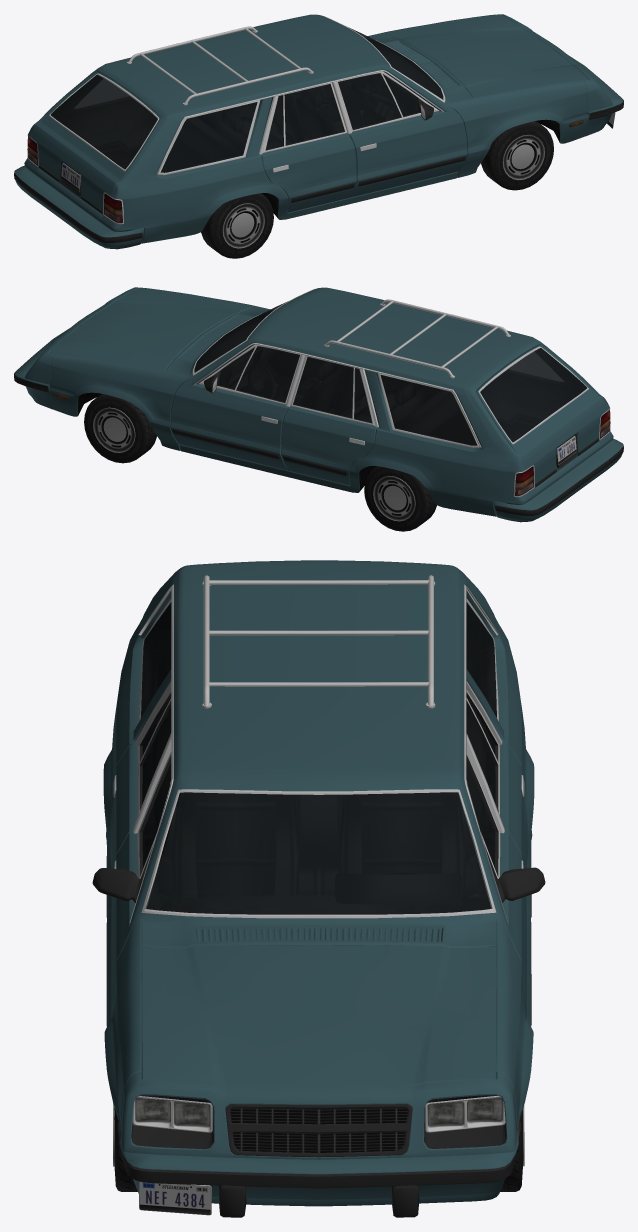
3 views of the same model, one above another, from view 1: azimuth 30°, elevation 25°; view 2: azimuth 150°, elevation 25°; view 3: azimuth 270°, elevation 25° (orthographic). The views are drawn at different scales.
Parts seen in each view (by area): view 1: Fairheaven_SW80_body001_Fairheaven_LT80_Bodymat_0, Fairheaven_SW80_Interior001_UCB_Interior_Trim_0, Fairheaven_LT84_Hood001_Fairheaven_LT80_Bodymat_0, Fairheaven_SW80_Glass_Body001_UCB_Lights_and_Glass_Transpere, Fairheaven_LT80_Interior_Trim005_UCB_Interior_Trim_0, Fairheaven_SW80_Glass_Rear001_UCB_Lights_and_Glass_Transpere, Fairheaven_SW84_Trim_UCB_BOTTOM_GT_0, Fairheaven_LT80_Trunkdoor001_Fairheaven_LT80_Bodymat_0, Fairheaven_LT80_WheelStock_FR002_RB1c_Tire_1k_0, Fairheaven_LT80_WheelStock_RR002_RB1c_Tire_1k_0, Fairheaven_LT80_Glass_Passanger007_UCB_Lights_and_Glass_Tran, Fairheaven_LT84_Bumper_Rear001_Fairheaven_LT80_Bodymat_0 (+10 smaller); view 2: Fairheaven_SW80_body001_Fairheaven_LT80_Bodymat_0, Fairheaven_SW80_Interior001_UCB_Interior_Trim_0, Fairheaven_LT84_Hood001_Fairheaven_LT80_Bodymat_0, Fairheaven_SW80_Glass_Body001_UCB_Lights_and_Glass_Transpere, Fairheaven_LT80_Interior_Trim005_UCB_Interior_Trim_0, Fairheaven_SW80_Glass_Rear001_UCB_Lights_and_Glass_Transpere, Fairheaven_SW84_Trim_UCB_BOTTOM_GT_0, Fairheaven_LT80_Trunkdoor001_Fairheaven_LT80_Bodymat_0, Fairheaven_LT80_WheelStock_FL002_RB1c_Tire_1k_0, Fairheaven_LT80_WheelStock_RL002_RB1c_Tire_1k_0, Fairheaven_LT80_Glass_Driver007_UCB_Lights_and_Glass_Transpe, Fairheaven_LT84_Bumper_Rear001_Fairheaven_LT80_Bodymat_0 (+11 smaller); view 3: Fairheaven_SW80_body001_Fairheaven_LT80_Bodymat_0, Fairheaven_LT84_Hood001_Fairheaven_LT80_Bodymat_0, Fairheaven_LT80_Interior_Trim005_UCB_Interior_Trim_0, Fairheaven_LT80_Windshield006_UCB_Lights_and_Glass_Transpere, Fairheaven_LT84_Front_Plate_Inner001_UCB_BOTTOM_GT_0, Fairheaven_SW84_Trim_UCB_BOTTOM_GT_0, Fairheaven_LT84_Front_Plate001_Fairheaven_LT80_Bodymat_0, Fairheaven_LT84_Bumper_front001_Fairheaven_LT80_Bodymat_0, Fairheaven_LT84_Bumper_front_Inner001_UCB_BOTTOM_GT_0, Fairheaven_SW80_Glass_Body001_UCB_Lights_and_Glass_Transpere, Fairheaven_SW80_Interior001_UCB_Interior_Trim_0, Fairheaven_SW80_Roofrack001_UCB_BOTTOM_GT_0 (+5 smaller).
Part boxes in pixels (<box>): Fairheaven_SW80_body001_Fairheaven_LT80_Bodymat_0: <box>24,14,587,243</box>; Fairheaven_SW80_Interior001_UCB_Interior_Trim_0: <box>51,38,442,172</box>; Fairheaven_LT84_Hood001_Fairheaven_LT80_Bodymat_0: <box>384,15,588,98</box>; Fairheaven_SW80_Glass_Body001_UCB_Lights_and_Glass_Transpere: <box>75,79,344,172</box>; Fairheaven_LT80_Interior_Trim005_UCB_Interior_Trim_0: <box>197,42,443,150</box>; Fairheaven_SW80_Glass_Rear001_UCB_Lights_and_Glass_Transpere: <box>50,74,157,169</box>; Fairheaven_SW84_Trim_UCB_BOTTOM_GT_0: <box>27,15,466,224</box>; Fairheaven_LT80_Trunkdoor001_Fairheaven_LT80_Bodymat_0: <box>31,71,161,214</box>; Fairheaven_LT80_WheelStock_FR002_RB1c_Tire_1k_0: <box>481,121,553,190</box>; Fairheaven_LT80_WheelStock_RR002_RB1c_Tire_1k_0: <box>201,193,273,258</box>; Fairheaven_LT80_Glass_Passanger007_UCB_Lights_and_Glass_Tran: <box>338,73,419,129</box>; Fairheaven_LT84_Bumper_Rear001_Fairheaven_LT80_Bodymat_0: <box>14,165,143,249</box>; Fairheaven_SW80_body001_Fairheaven_LT80_Bodymat_0: <box>50,287,613,516</box>; Fairheaven_SW80_Interior001_UCB_Interior_Trim_0: <box>197,311,586,445</box>; Fairheaven_LT84_Hood001_Fairheaven_LT80_Bodymat_0: <box>49,288,253,371</box>; Fairheaven_SW80_Glass_Body001_UCB_Lights_and_Glass_Transpere: <box>293,352,563,445</box>; Fairheaven_LT80_Interior_Trim005_UCB_Interior_Trim_0: <box>195,318,440,423</box>; Fairheaven_SW80_Glass_Rear001_UCB_Lights_and_Glass_Transpere: <box>480,348,587,442</box>; Fairheaven_SW84_Trim_UCB_BOTTOM_GT_0: <box>171,288,610,497</box>; Fairheaven_LT80_Trunkdoor001_Fairheaven_LT80_Bodymat_0: <box>476,345,606,487</box>; Fairheaven_LT80_WheelStock_FL002_RB1c_Tire_1k_0: <box>84,394,156,463</box>; Fairheaven_LT80_WheelStock_RL002_RB1c_Tire_1k_0: <box>364,466,436,531</box>; Fairheaven_LT80_Glass_Driver007_UCB_Lights_and_Glass_Transpe: <box>218,346,299,402</box>; Fairheaven_LT84_Bumper_Rear001_Fairheaven_LT80_Bodymat_0: <box>494,439,623,522</box>; Fairheaven_SW80_body001_Fairheaven_LT80_Bodymat_0: <box>103,560,534,1128</box>; Fairheaven_LT84_Hood001_Fairheaven_LT80_Bodymat_0: <box>141,945,496,1086</box>; Fairheaven_LT80_Interior_Trim005_UCB_Interior_Trim_0: <box>145,716,492,914</box>; Fairheaven_LT80_Windshield006_UCB_Lights_and_Glass_Transpere: <box>145,792,492,914</box>; Fairheaven_LT84_Front_Plate_Inner001_UCB_BOTTOM_GT_0: <box>131,1095,506,1157</box>; Fairheaven_SW84_Trim_UCB_BOTTOM_GT_0: <box>92,584,545,1025</box>; Fairheaven_LT84_Front_Plate001_Fairheaven_LT80_Bodymat_0: <box>121,1071,516,1159</box>; Fairheaven_LT84_Bumper_front001_Fairheaven_LT80_Bodymat_0: <box>119,1127,518,1206</box>; Fairheaven_LT84_Bumper_front_Inner001_UCB_BOTTOM_GT_0: <box>119,1145,518,1217</box>; Fairheaven_SW80_Glass_Body001_UCB_Lights_and_Glass_Transpere: <box>141,602,496,804</box>; Fairheaven_SW80_Interior001_UCB_Interior_Trim_0: <box>141,620,496,910</box>; Fairheaven_SW80_Roofrack001_UCB_BOTTOM_GT_0: <box>202,575,435,708</box>.
Bounding box in the file's own units: 5.03 × 1.4 × 1.86.
7 materials, 6 textured.
